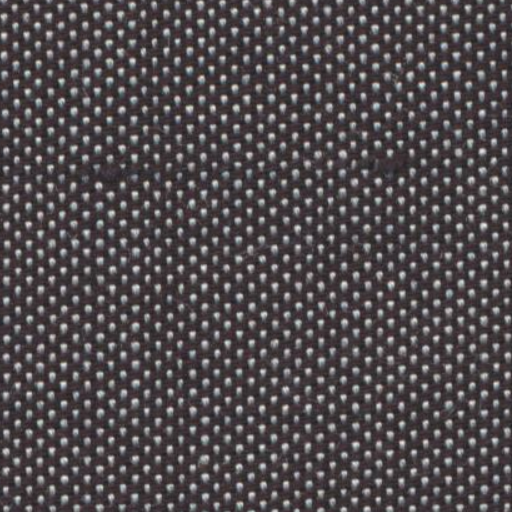TuoSha: (24, 142, 492, 202)
